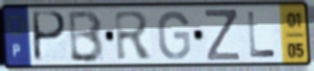B: (67, 8, 106, 65)
G: (156, 10, 192, 62)
L: (245, 10, 278, 59)
P: (32, 10, 69, 65)
R: (112, 9, 155, 63)
Z: (203, 8, 242, 63)
